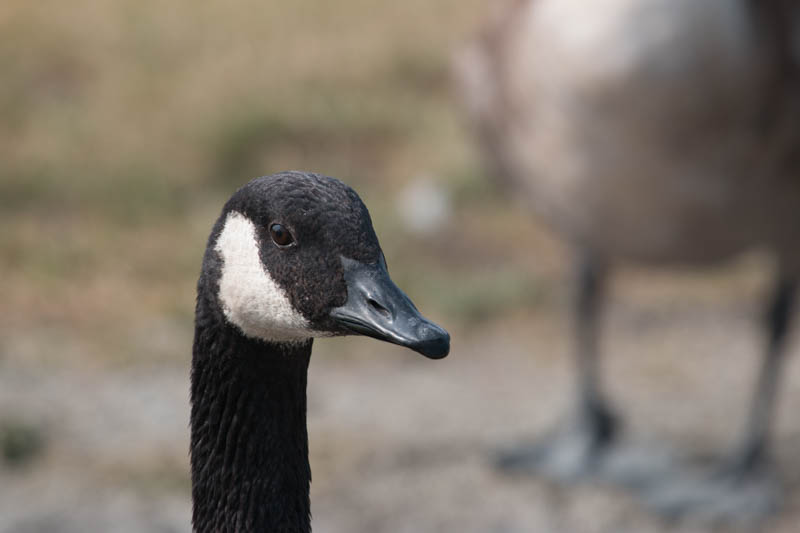goose-head: (195, 171, 450, 361)
